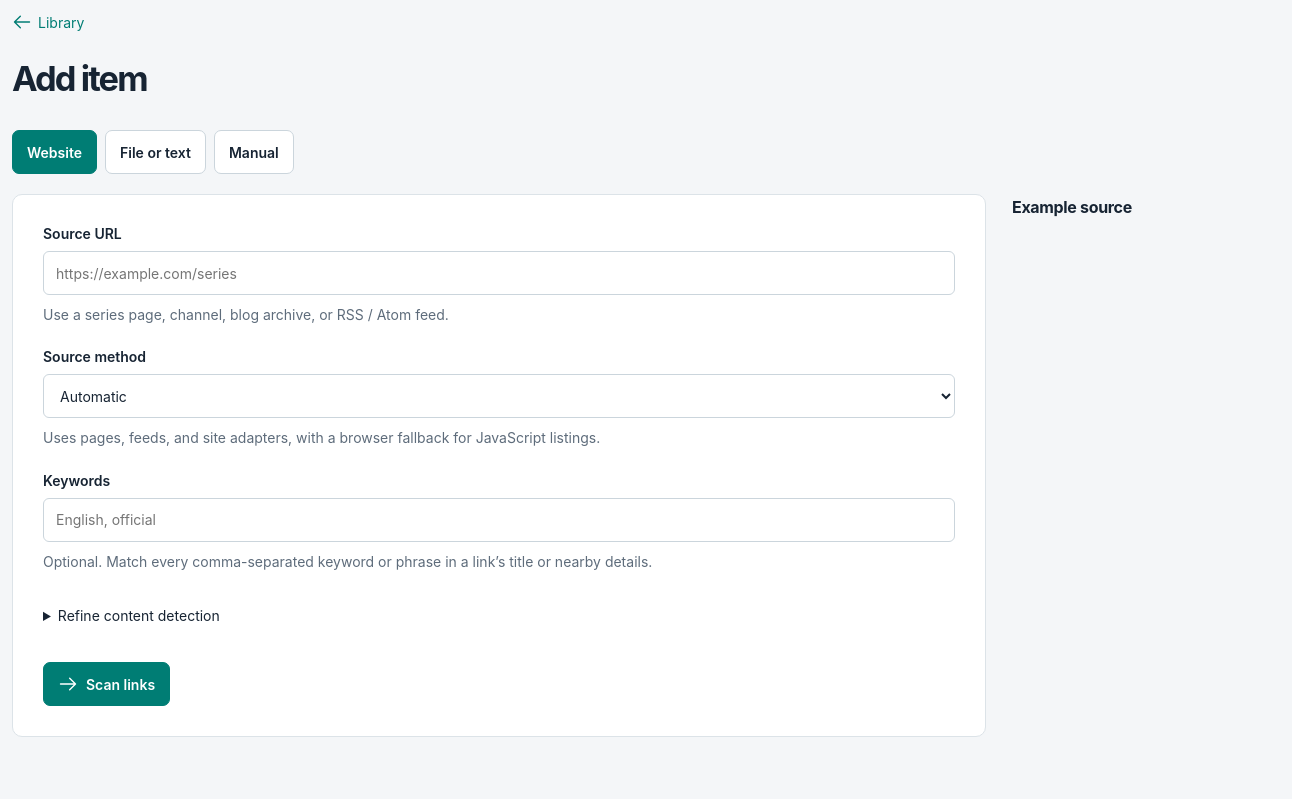
Test: scan errors carry source alternatives even with a manual source method
In the field labelled "Source URL": [499, 273] box [43,251,955,295], type "https://blocked.example.org/"
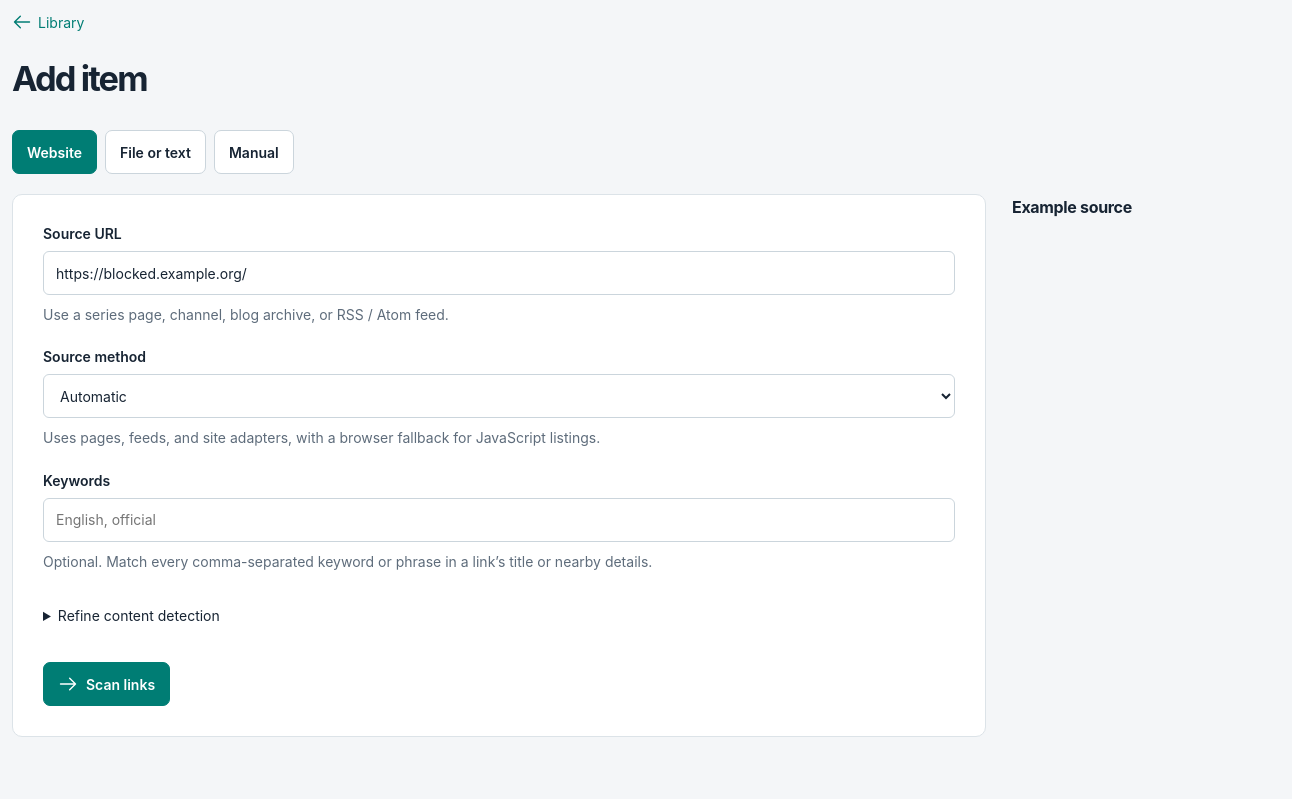
Select "Sitemap" in the dropdown labelled "Source method": [499, 396] box [43,374,955,418]
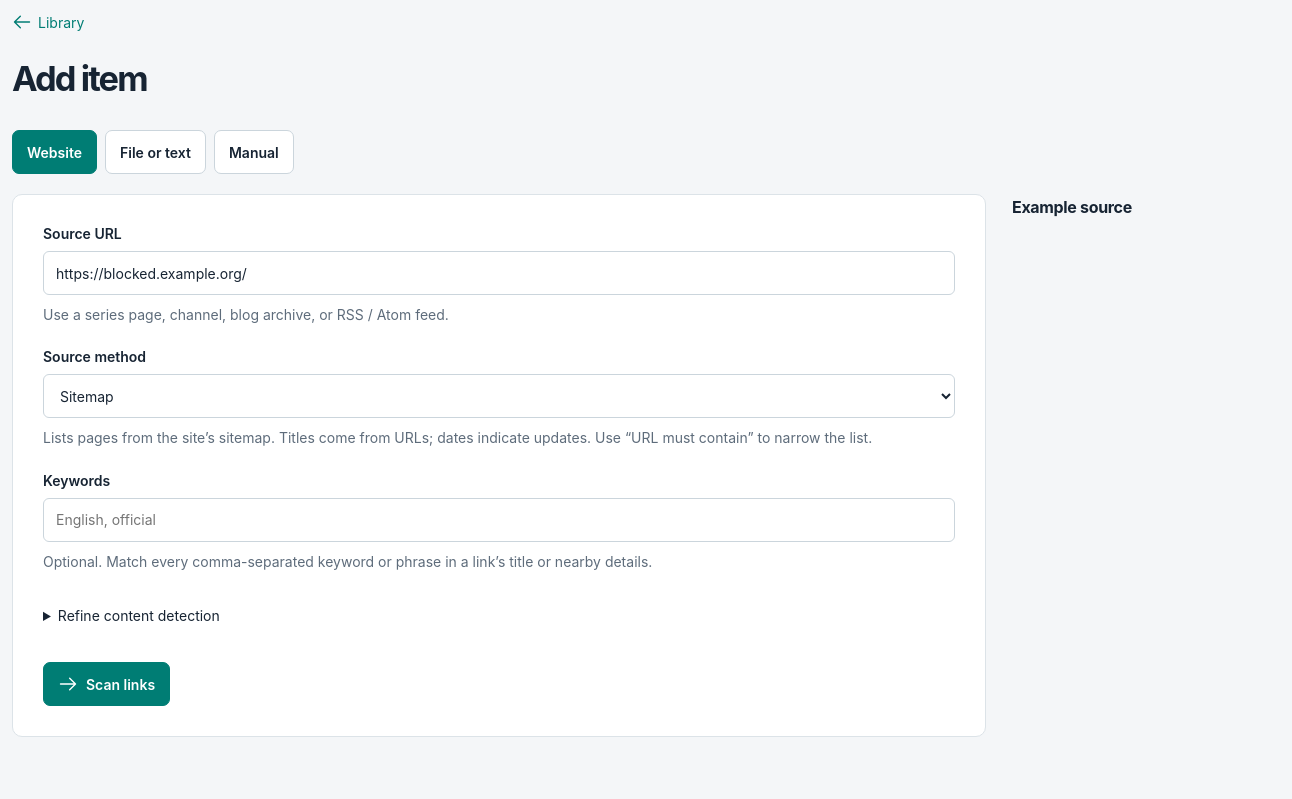
Click the button "Scan links": [107, 684] box [43,662,170,706]
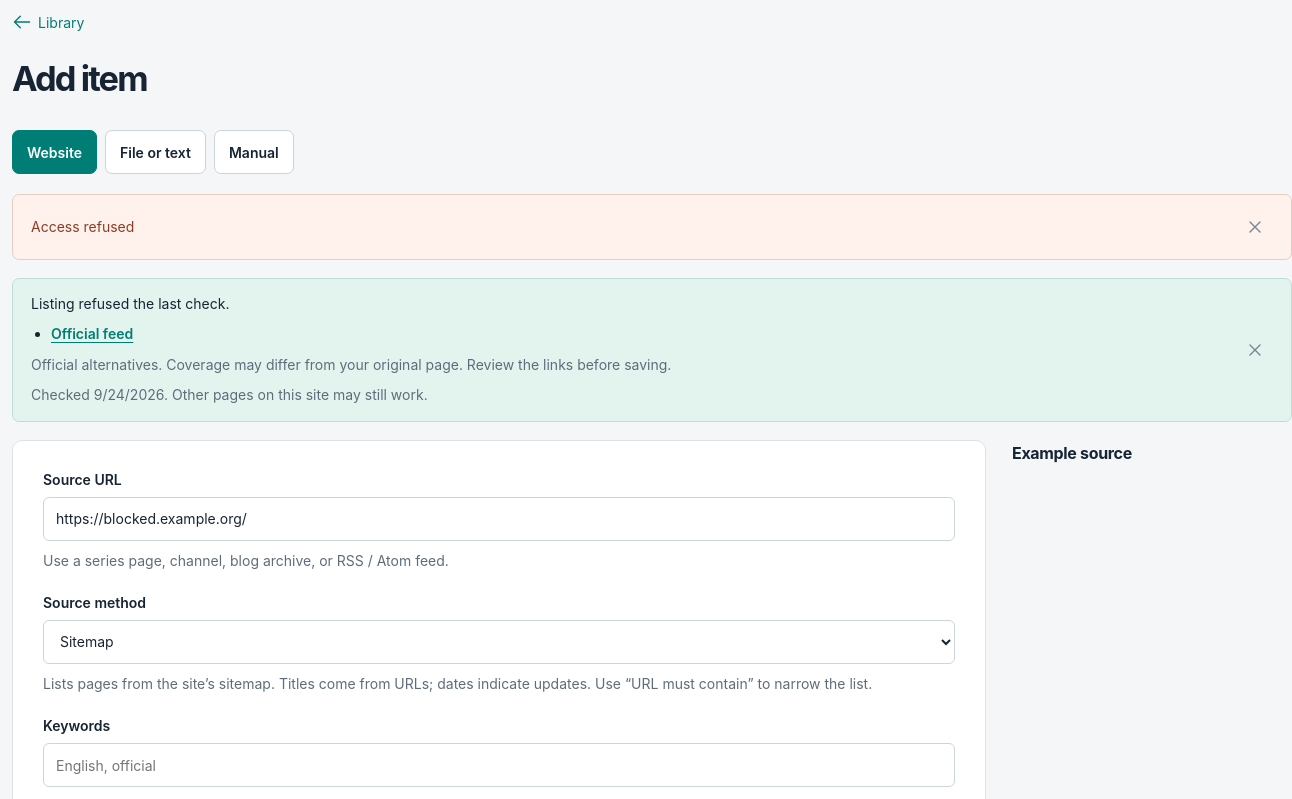
Check: the link "Official feed" is shown, box [51,325,133,342]
Replace the text in the field labelled "Source URL" with "https://new.example.org/": [499, 519] box [43,497,955,541]
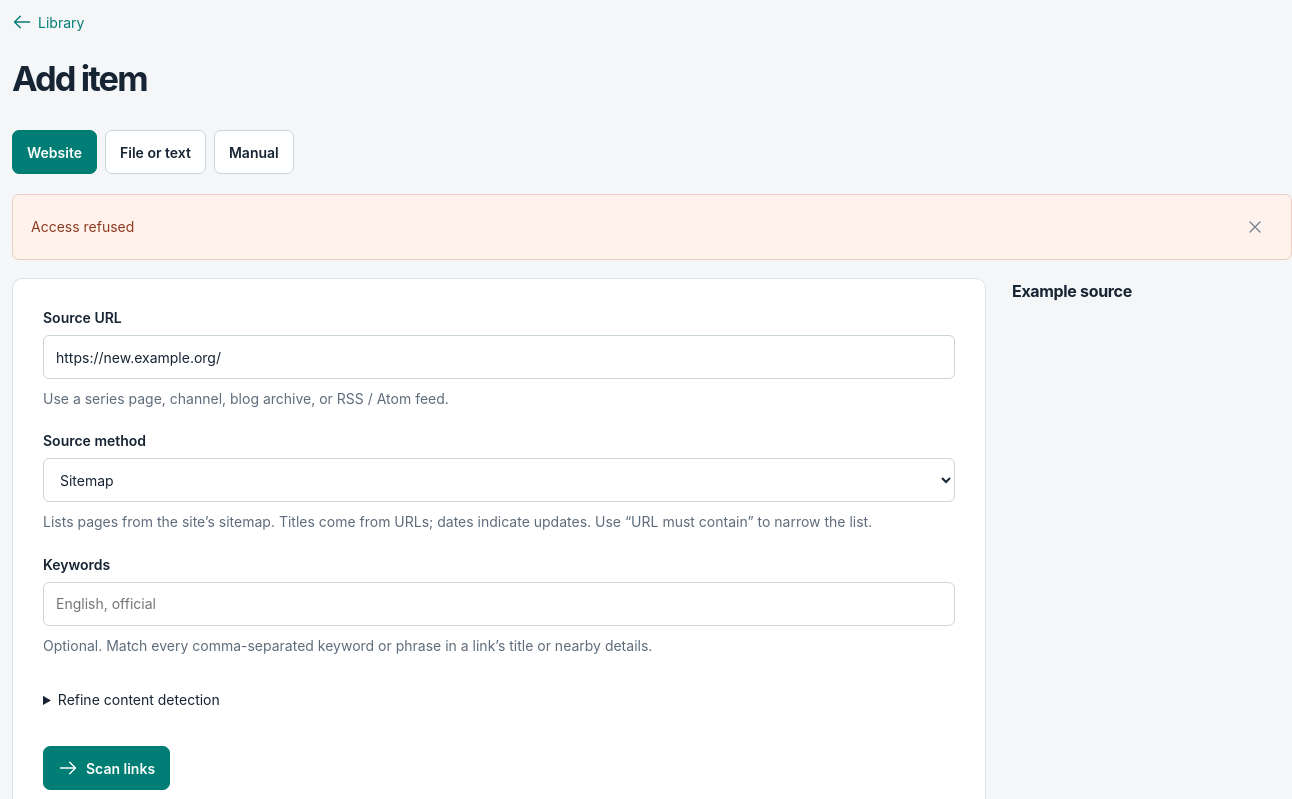
Check: the link "Official feed" is gone
